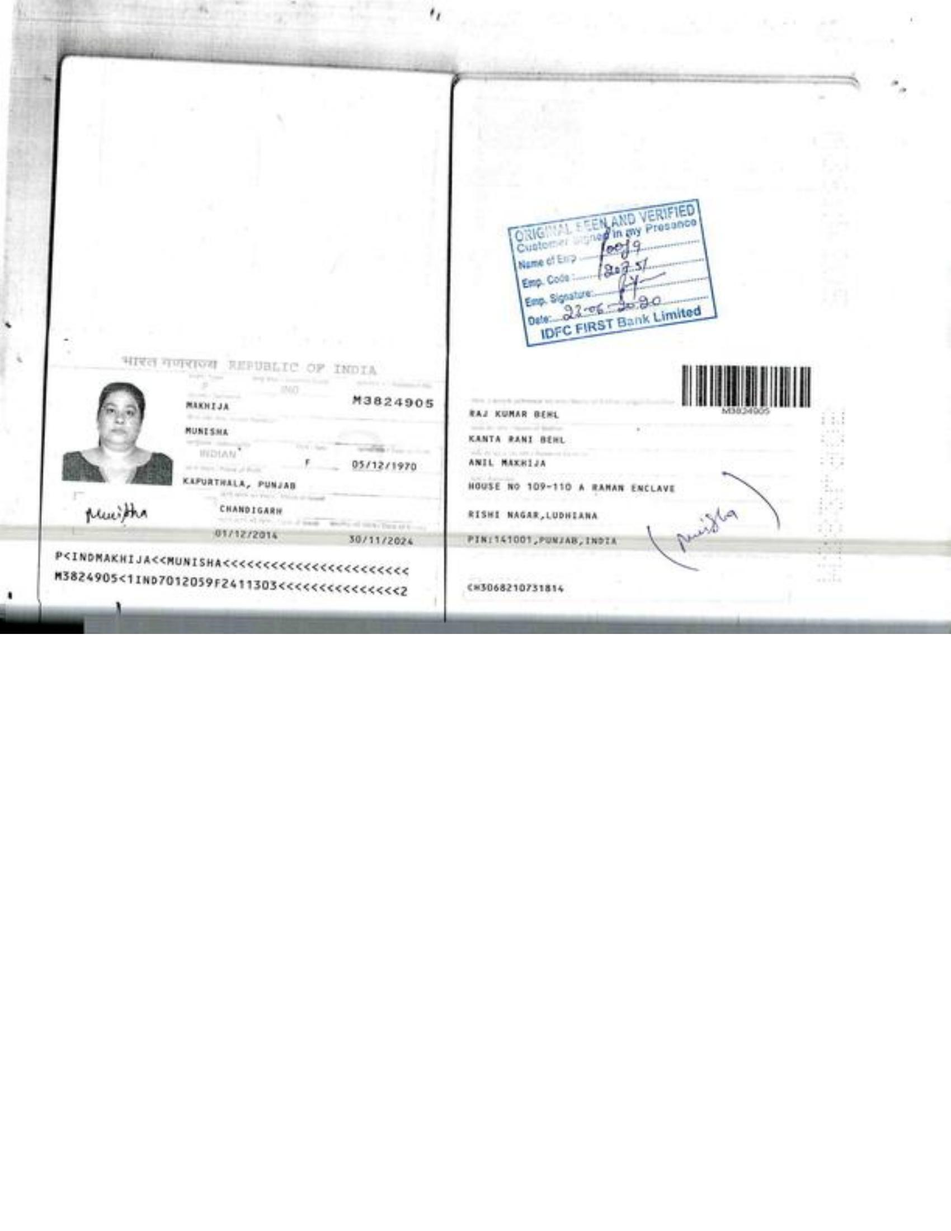DOB: (337, 457, 429, 478)
File_no: (462, 578, 570, 600)
address: (456, 480, 682, 559)
country_code: (276, 380, 305, 404)
date_of_expiry: (344, 531, 419, 548)
date_of_issue: (213, 526, 290, 544)
details: (49, 545, 422, 609)
father_name: (458, 406, 573, 433)
mother_name: (464, 430, 572, 449)
name: (174, 413, 246, 444)
nationality: (196, 446, 243, 462)
passport_no: (340, 387, 440, 420), (338, 388, 434, 417), (715, 401, 786, 419)
photo: (71, 380, 168, 482)
place_of_birth: (172, 472, 298, 499)
place_of_issue: (212, 498, 289, 522)
sex: (286, 451, 323, 473)
sign: (79, 504, 164, 531)
spouse_name: (462, 454, 556, 477)
type: (189, 375, 227, 394)
